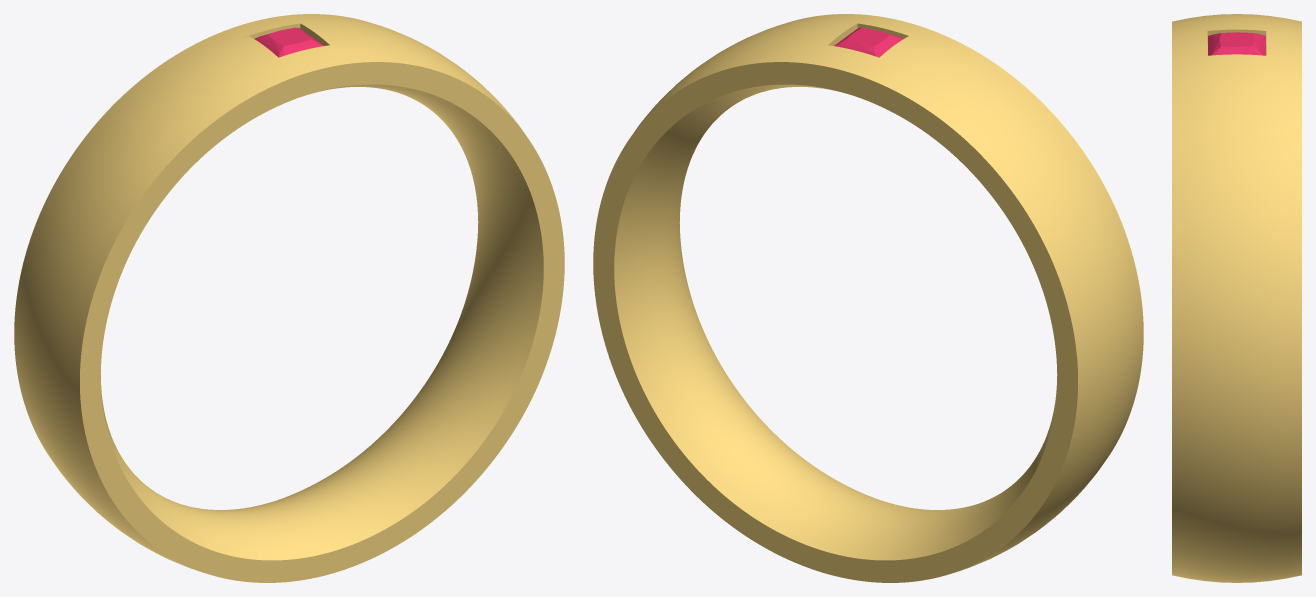
Rendered from Chris_his_ruby_YG_blender.glb.
3 renders of one model, left to right at view 1: azimuth 30°, elevation 25°; view 2: azimuth 150°, elevation 25°; view 3: azimuth 270°, elevation 25°, orthographic.
Visible parts, largest first — view 1: Chris his YG for 3d model, Chris his ruby for 3d model; view 2: Chris his YG for 3d model, Chris his ruby for 3d model; view 3: Chris his YG for 3d model, Chris his ruby for 3d model.
Part boxes in pixels (box(x1,y1,x2,y2)): Chris his YG for 3d model: box(14, 14, 564, 582); Chris his ruby for 3d model: box(254, 27, 323, 57); Chris his YG for 3d model: box(593, 14, 1143, 582); Chris his ruby for 3d model: box(834, 27, 903, 57); Chris his YG for 3d model: box(1172, 14, 1301, 582); Chris his ruby for 3d model: box(1208, 32, 1265, 55).
Size of the model in its own units: 25.44 by 25.48 by 5.8.
